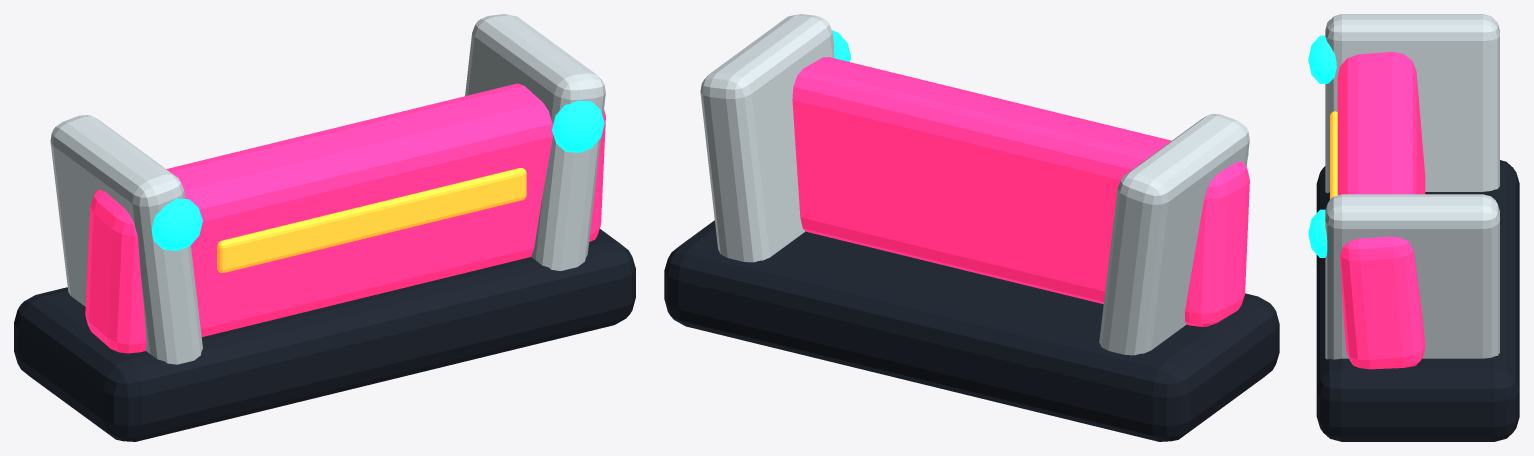
File: hurdle-premium.glb
3 views of the same model, side by side, from view 1: azimuth 30°, elevation 25°; view 2: azimuth 150°, elevation 25°; view 3: azimuth 270°, elevation 25° (orthographic). The views are drawn at different scales.
Visible parts, largest first — view 1: HurdleBlade, HurdleBase, HurdleFin_-0.73, HurdleFin_0.73, HurdleSignal, HurdleLamp_0.73, HurdleLamp_-0.73; view 2: HurdleBlade, HurdleBase, HurdleFin_0.73, HurdleFin_-0.73; view 3: HurdleBase, HurdleBlade, HurdleFin_0.73, HurdleFin_-0.73, HurdleLamp_-0.73, HurdleLamp_0.73, HurdleSignal.
Part boxes in pixels (box(x1,y1,x2,y2)): HurdleBlade: box(85, 83, 605, 353); HurdleBase: box(14, 229, 635, 441); HurdleFin_-0.73: box(50, 115, 202, 364); HurdleFin_0.73: box(465, 14, 605, 270); HurdleSignal: box(217, 168, 526, 272); HurdleLamp_0.73: box(552, 100, 604, 152); HurdleLamp_-0.73: box(151, 198, 202, 250); HurdleBlade: box(792, 57, 1249, 326); HurdleBase: box(664, 220, 1279, 441); HurdleFin_0.73: box(700, 14, 834, 262); HurdleFin_-0.73: box(1099, 114, 1249, 355); HurdleBase: box(1316, 160, 1519, 441); HurdleBlade: box(1337, 52, 1425, 369); HurdleFin_0.73: box(1325, 194, 1499, 359); HurdleFin_-0.73: box(1325, 14, 1499, 193); HurdleLamp_-0.73: box(1308, 35, 1336, 83); HurdleLamp_0.73: box(1308, 209, 1327, 257); HurdleSignal: box(1330, 111, 1337, 199).
Bounding box in the file's own units: 1.92 × 0.891 × 0.75.
